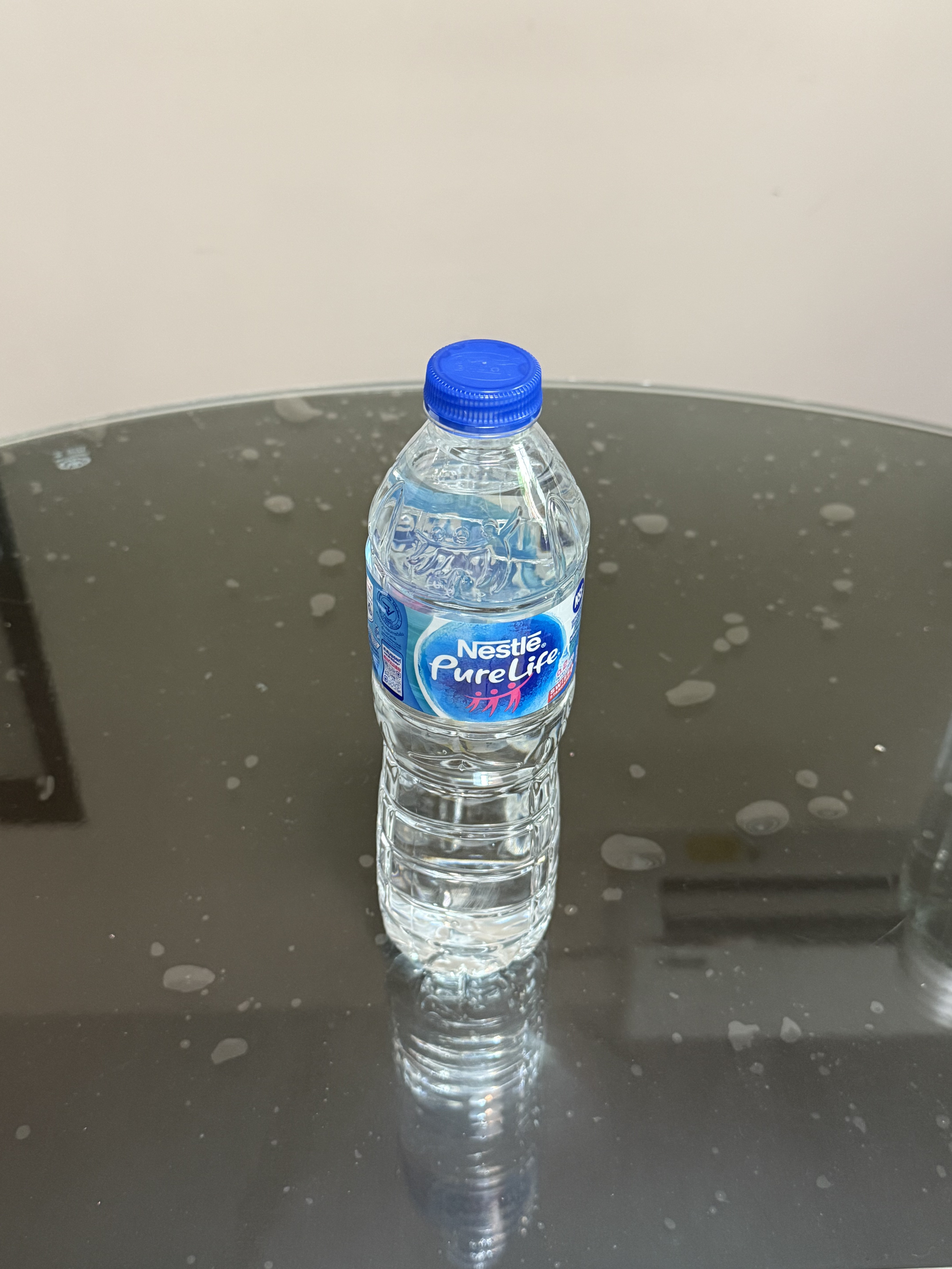closed_cap: (421, 335, 544, 435)
